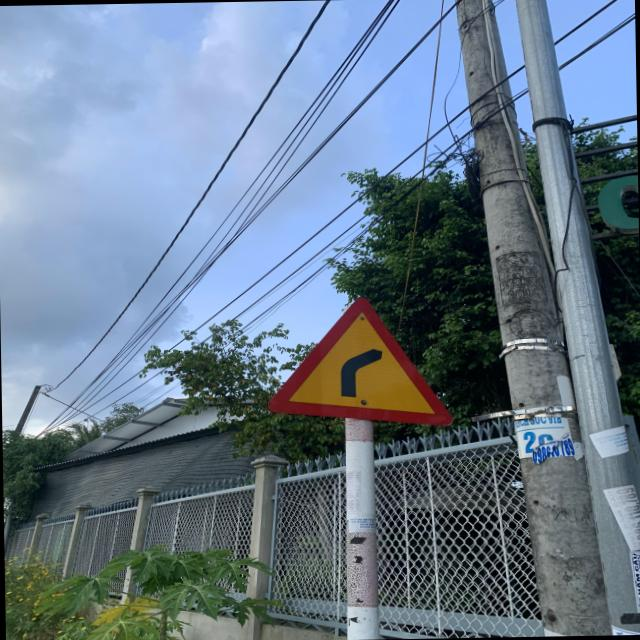Duong_Nguoi_Di_Bo_Cat_Ngang: (267, 294, 445, 428)
